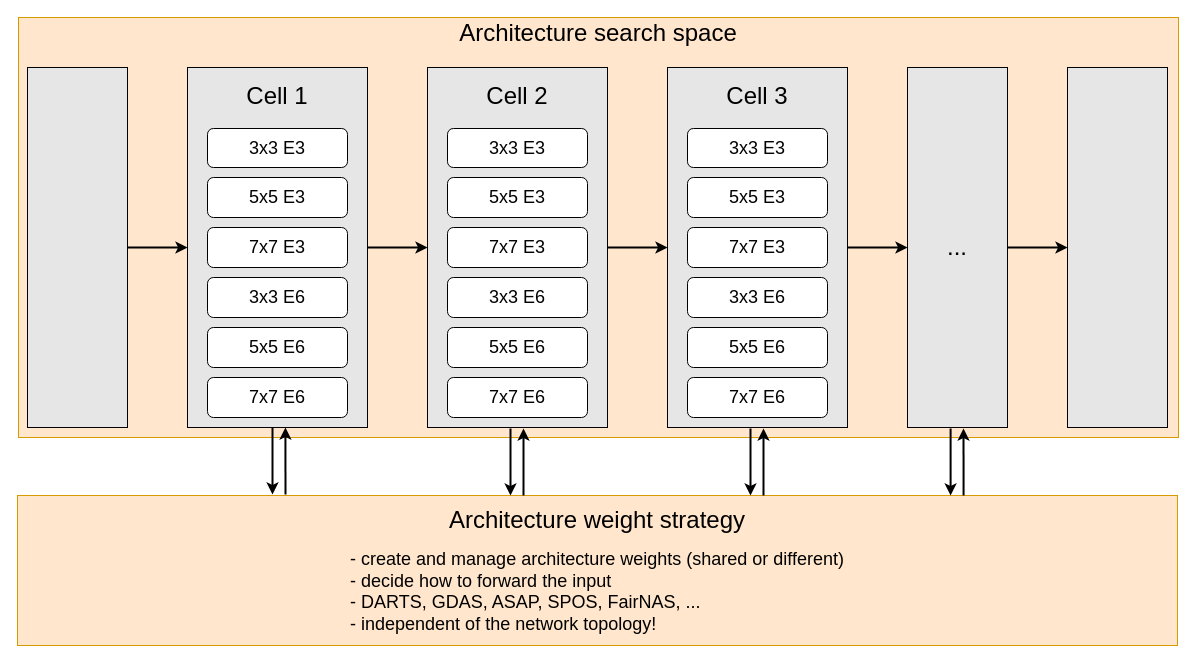
Some shapes in this 1196 by 663 pixel diagram are drawn without their labels. Each missing label, with the centre of its shape:
"Head" belongs at point (1117, 247).
"Stem" belongs at point (77, 247).
